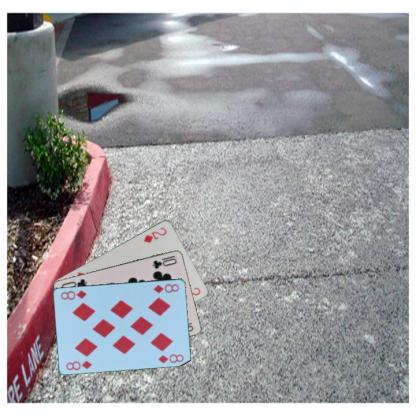10c: (150, 252, 178, 270)
2d: (141, 225, 168, 244)
8d: (151, 281, 180, 294), (64, 358, 93, 371)
